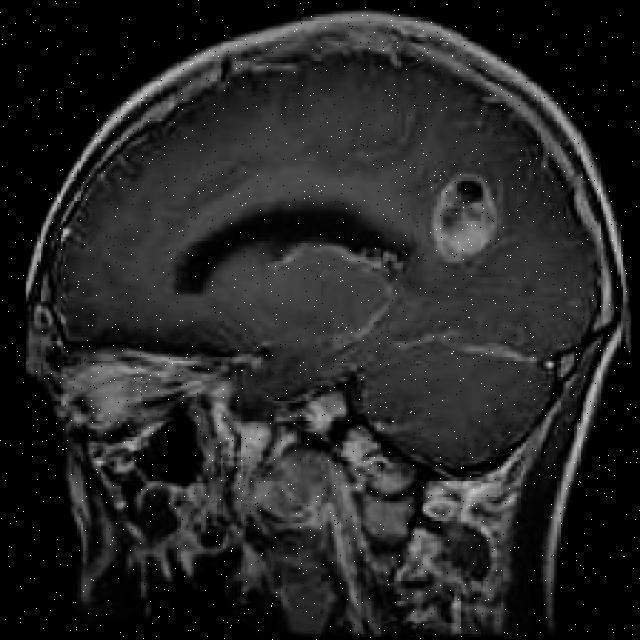EMCI: (431, 120, 483, 223)
